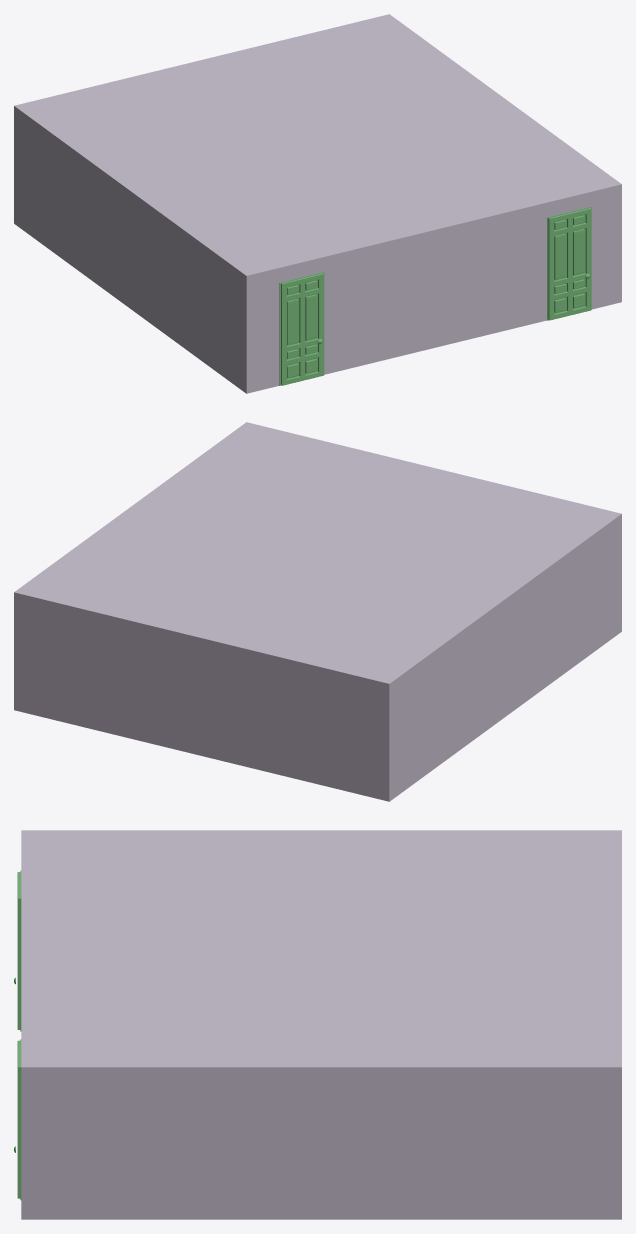
File: Room 8.glb
3 renders of one model, top to bottom at view 1: azimuth 30°, elevation 25°; view 2: azimuth 150°, elevation 25°; view 3: azimuth 270°, elevation 25°, orthographic. The views are drawn at different scales.
Visible parts, largest first — view 1: Mesh_Mesh_head_geo.001_lambert2SG.001; view 2: Mesh_Mesh_head_geo.001_lambert2SG.001; view 3: Mesh_Mesh_head_geo.001_lambert2SG.001.
Part boxes in pixels (x1,y1,x2,y2): Mesh_Mesh_head_geo.001_lambert2SG.001: [14, 14, 621, 393]; Mesh_Mesh_head_geo.001_lambert2SG.001: [14, 422, 621, 801]; Mesh_Mesh_head_geo.001_lambert2SG.001: [14, 830, 621, 1219].
Bounding box in the file's own units: 40 × 12 × 43.41.
